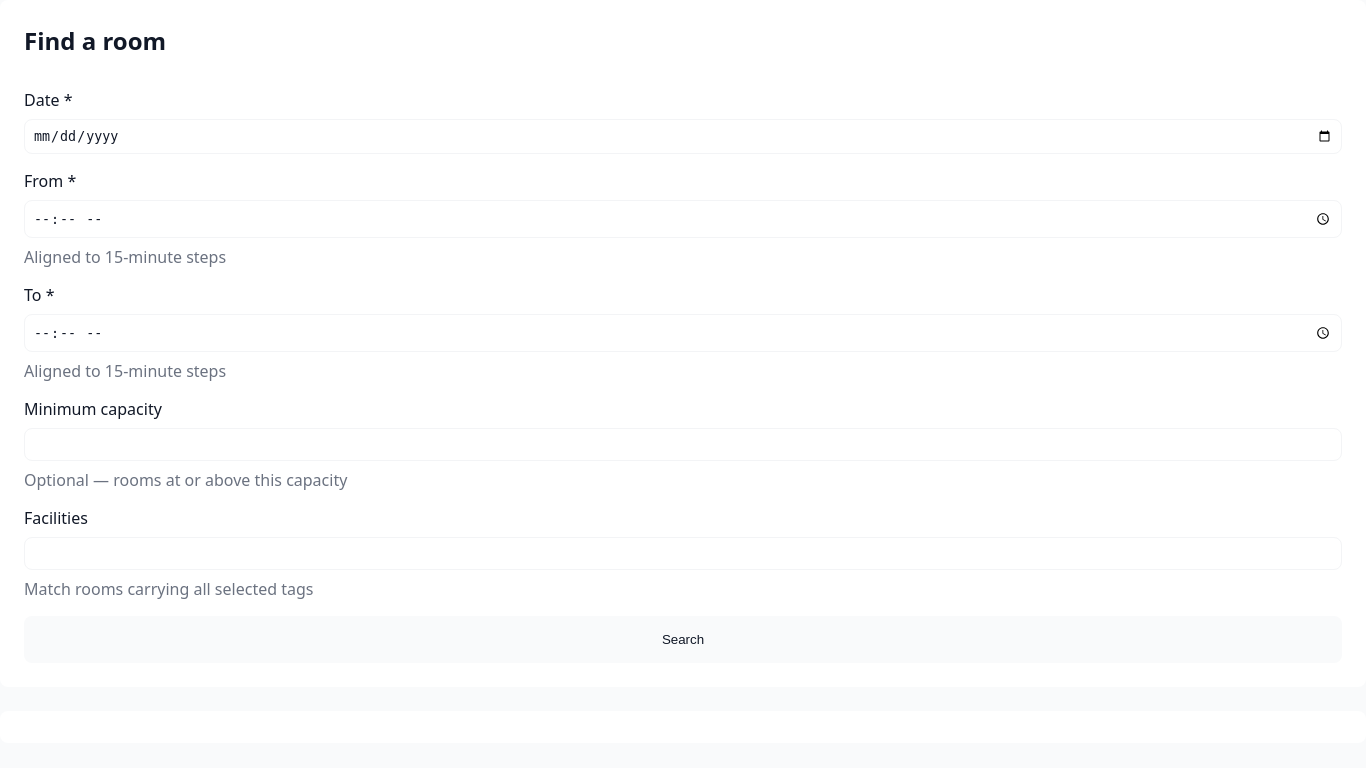
Test case: RoomFinder › runs a valid search and renders the available rooms
The image size is (1366, 768).
Type "2026-07-27" into the date field with id "room-search-date" at (683, 137), box top-left (24, 119), bottom-right (1342, 154)
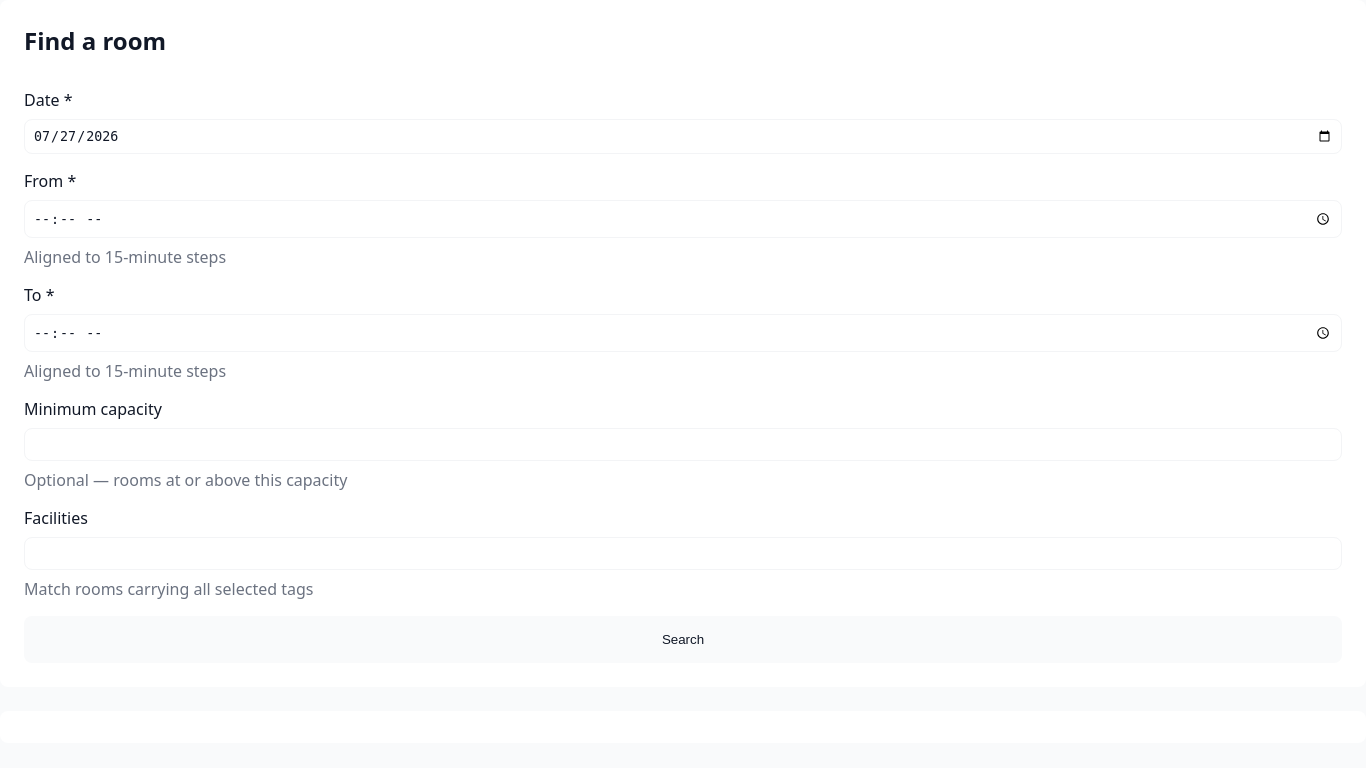
Type "10:00" into the time field with id "room-search-start" at (683, 219), box top-left (24, 200), bottom-right (1342, 238)
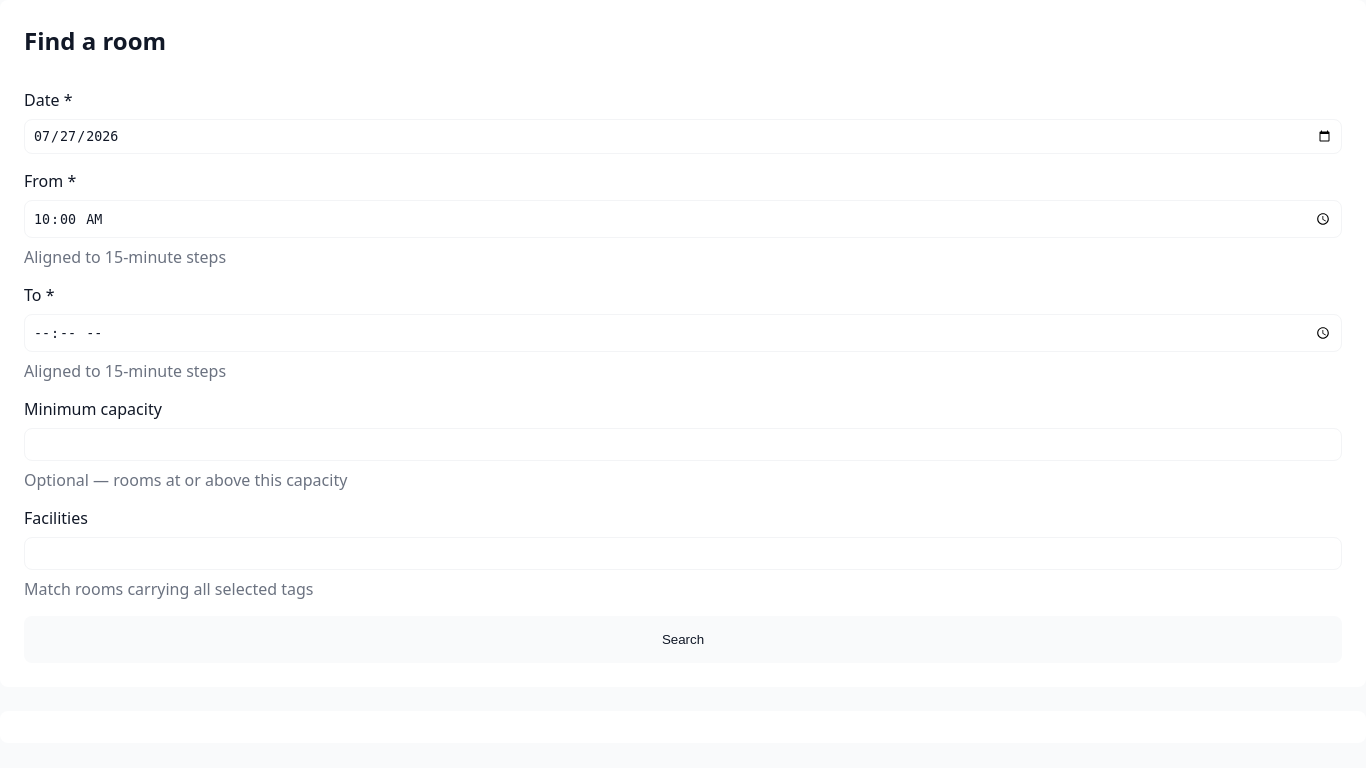
Type "11:00" into the time field with id "room-search-end" at (683, 333), box top-left (24, 314), bottom-right (1342, 352)
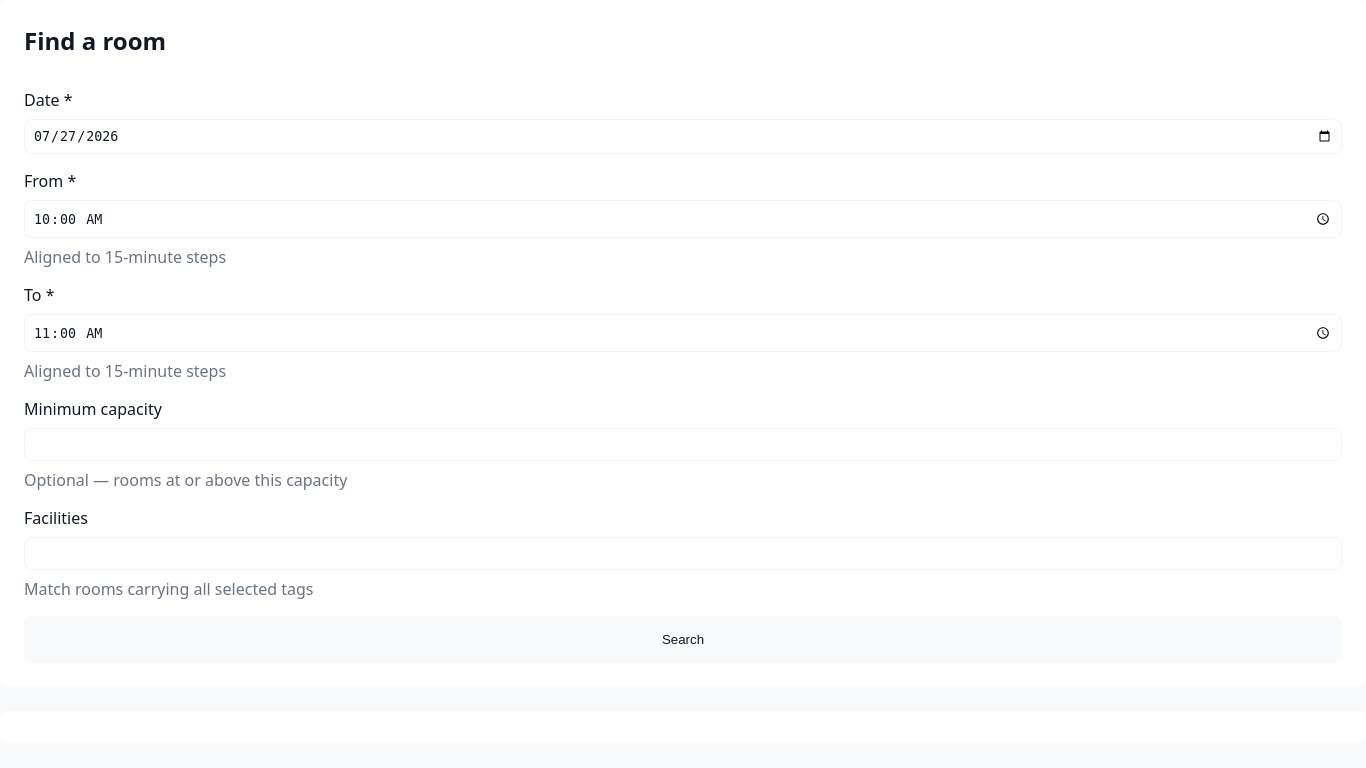
Submit the form
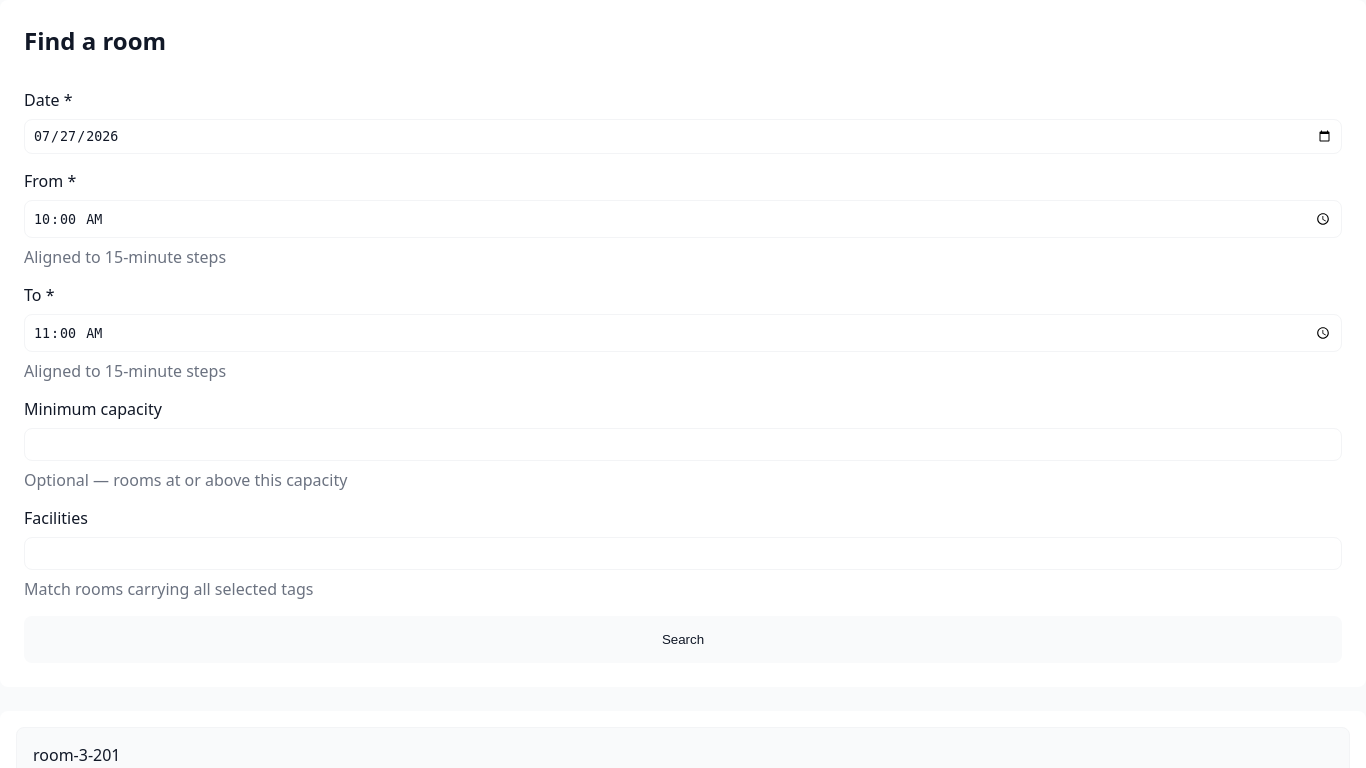
expect the text with class "room-card__label" reads "room-3-201": met, box top-left (33, 744), bottom-right (120, 766)
